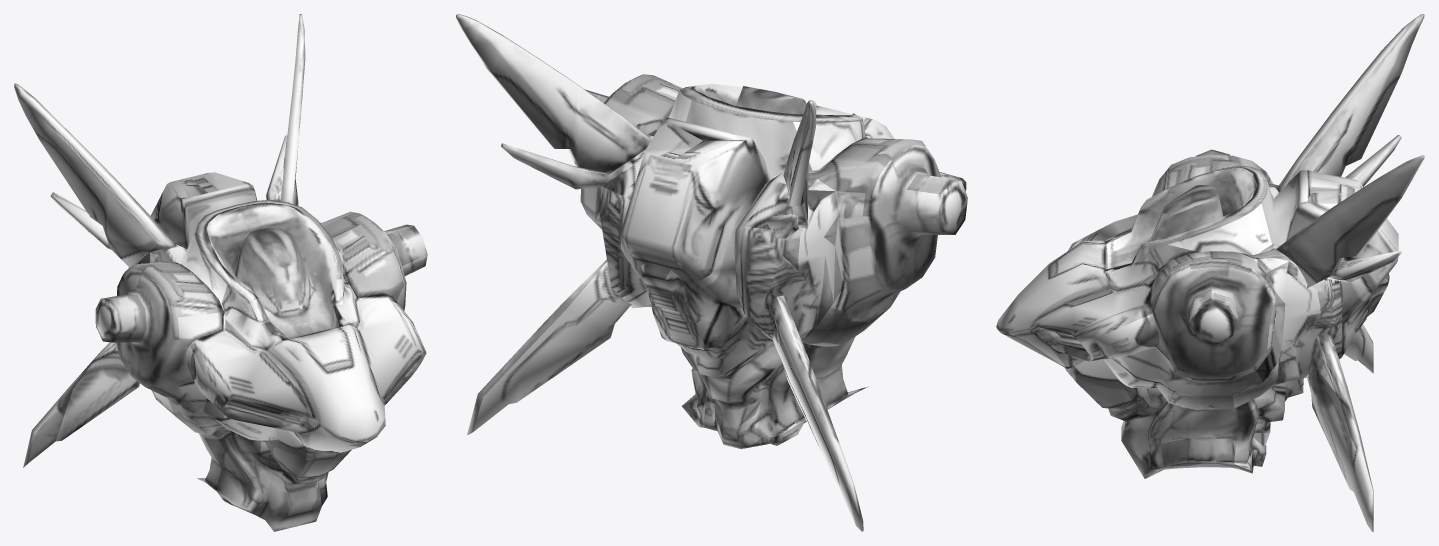
3 views of the same model, side by side, from view 1: azimuth 30°, elevation 25°; view 2: azimuth 150°, elevation 25°; view 3: azimuth 270°, elevation 25° (orthographic). The views are drawn at different scales.
Parts seen in each view (by area): view 1: c_lt; view 2: c_lt; view 3: c_lt.
Part boxes in pixels (bbox=[...]): c_lt: bbox=[14, 14, 427, 531]; c_lt: bbox=[456, 14, 967, 531]; c_lt: bbox=[996, 14, 1424, 531].
Bounding box in the file's own units: 1.19 × 1.34 × 1.35.
3 materials, 3 textured.
